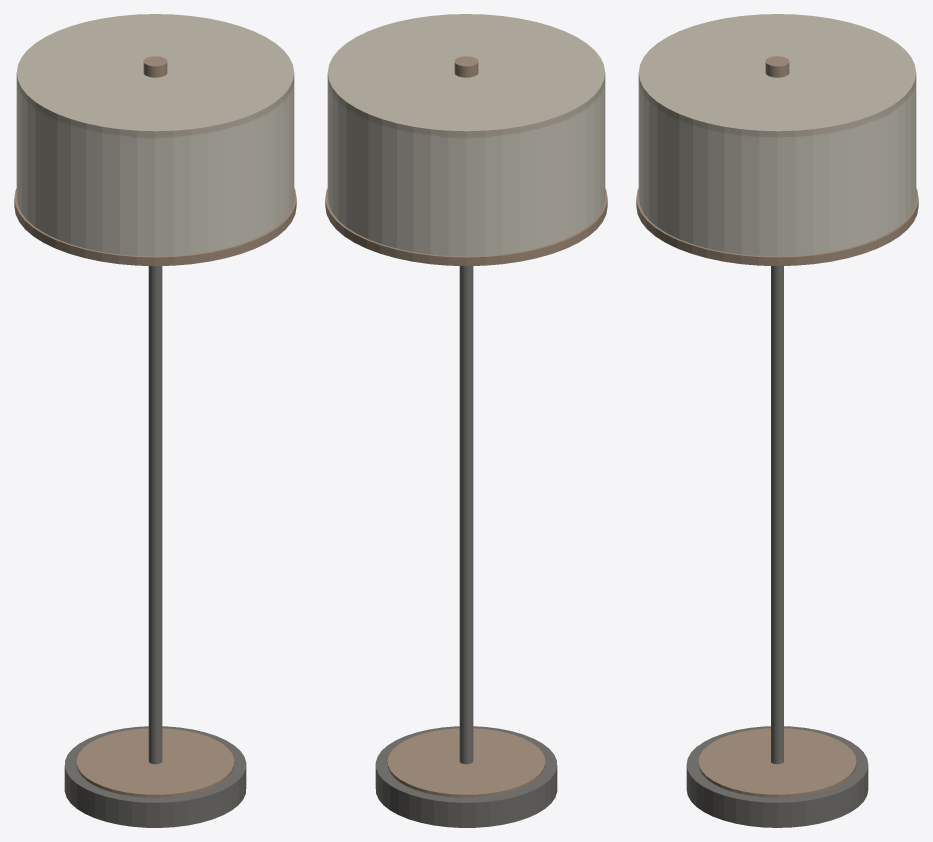
Rendered from lampara-de-pie.glb.
3 views of the same model, side by side, from view 1: azimuth 30°, elevation 25°; view 2: azimuth 150°, elevation 25°; view 3: azimuth 270°, elevation 25° (orthographic).
Parts seen in each view (by area): view 1: shade_drum, shade_upper, base_gold_trim, stem, base, shade_bottom_ring; view 2: shade_drum, shade_upper, base_gold_trim, stem, base, shade_bottom_ring; view 3: shade_drum, shade_upper, base_gold_trim, base, stem, shade_bottom_ring.
Part boxes in pixels (x1=…): shade_drum: x1=16, y1=79, x2=294, y2=256; shade_upper: x1=16, y1=14, x2=294, y2=138; base_gold_trim: x1=76, y1=728, x2=234, y2=797; stem: x1=148, y1=266, x2=162, y2=764; base: x1=64, y1=726, x2=246, y2=827; shade_bottom_ring: x1=14, y1=188, x2=296, y2=266; shade_drum: x1=327, y1=80, x2=605, y2=256; shade_upper: x1=327, y1=14, x2=605, y2=138; base_gold_trim: x1=387, y1=728, x2=545, y2=797; stem: x1=459, y1=266, x2=473, y2=764; base: x1=375, y1=726, x2=557, y2=827; shade_bottom_ring: x1=325, y1=188, x2=607, y2=266; shade_drum: x1=638, y1=79, x2=916, y2=256; shade_upper: x1=638, y1=14, x2=916, y2=138; base_gold_trim: x1=698, y1=728, x2=856, y2=797; base: x1=686, y1=726, x2=868, y2=827; stem: x1=771, y1=266, x2=783, y2=764; shade_bottom_ring: x1=636, y1=188, x2=918, y2=266.
Size of the model in its own units: 0.59 by 1.68 by 0.59.
